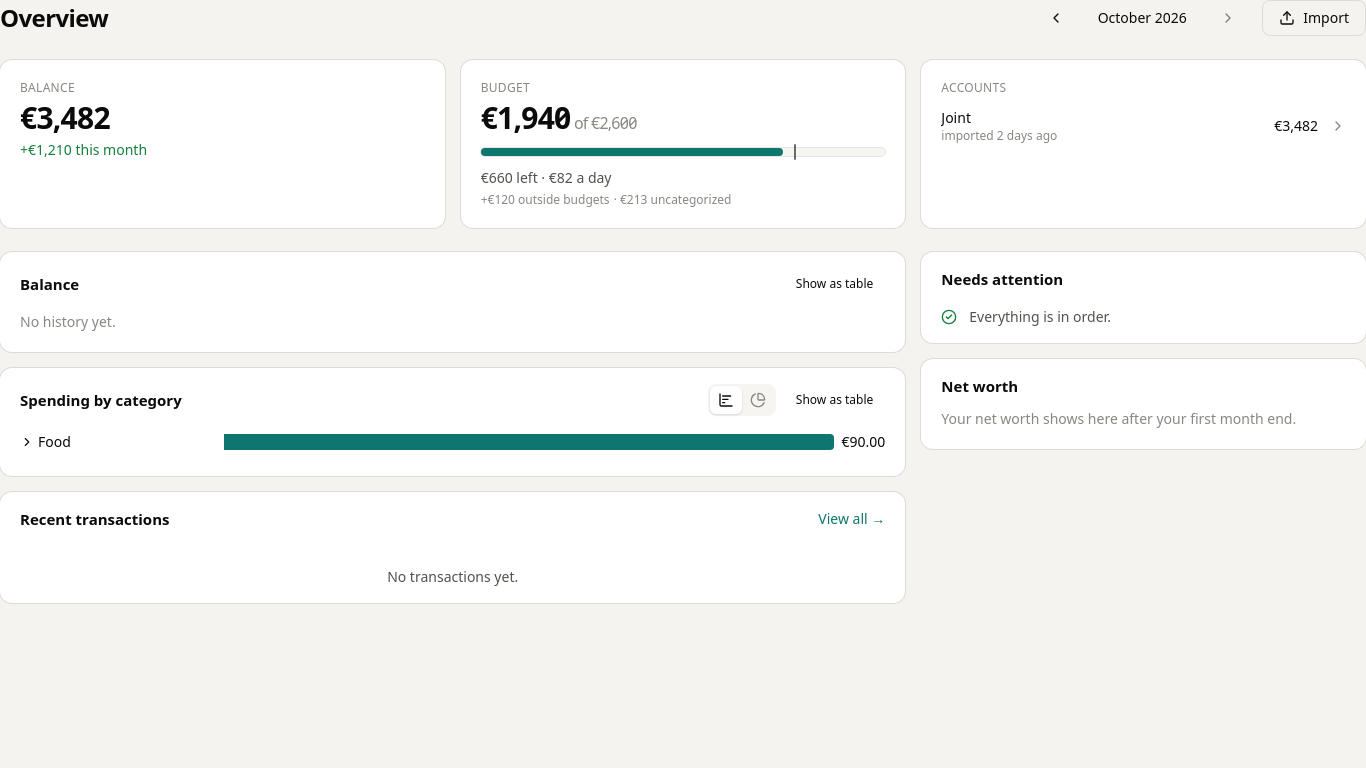
Scenario: Spending by category view › goes back to all categories when the month changes
Click the button named "Pie": (758, 400) [742,386,774,414]
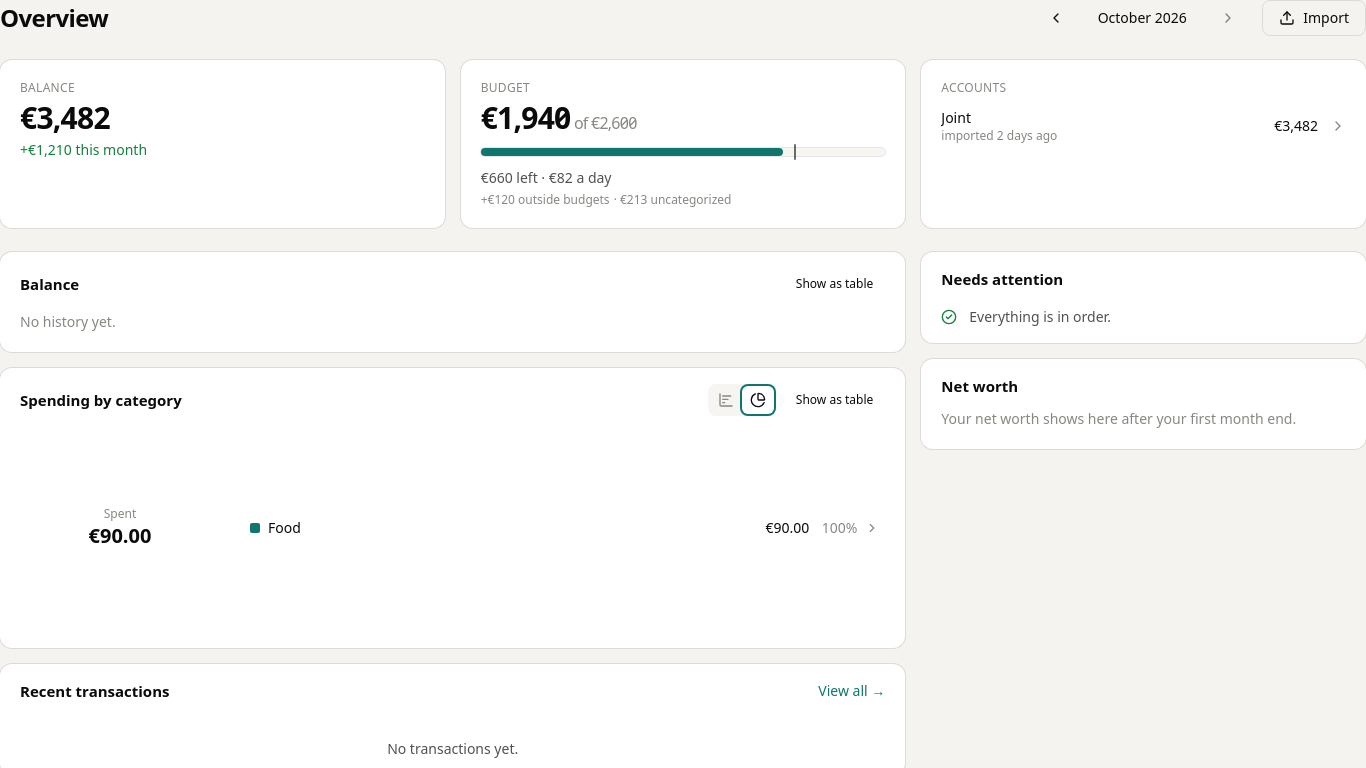
Click the button "Food €90.00 100%": (284, 528) [244,512,885,544]
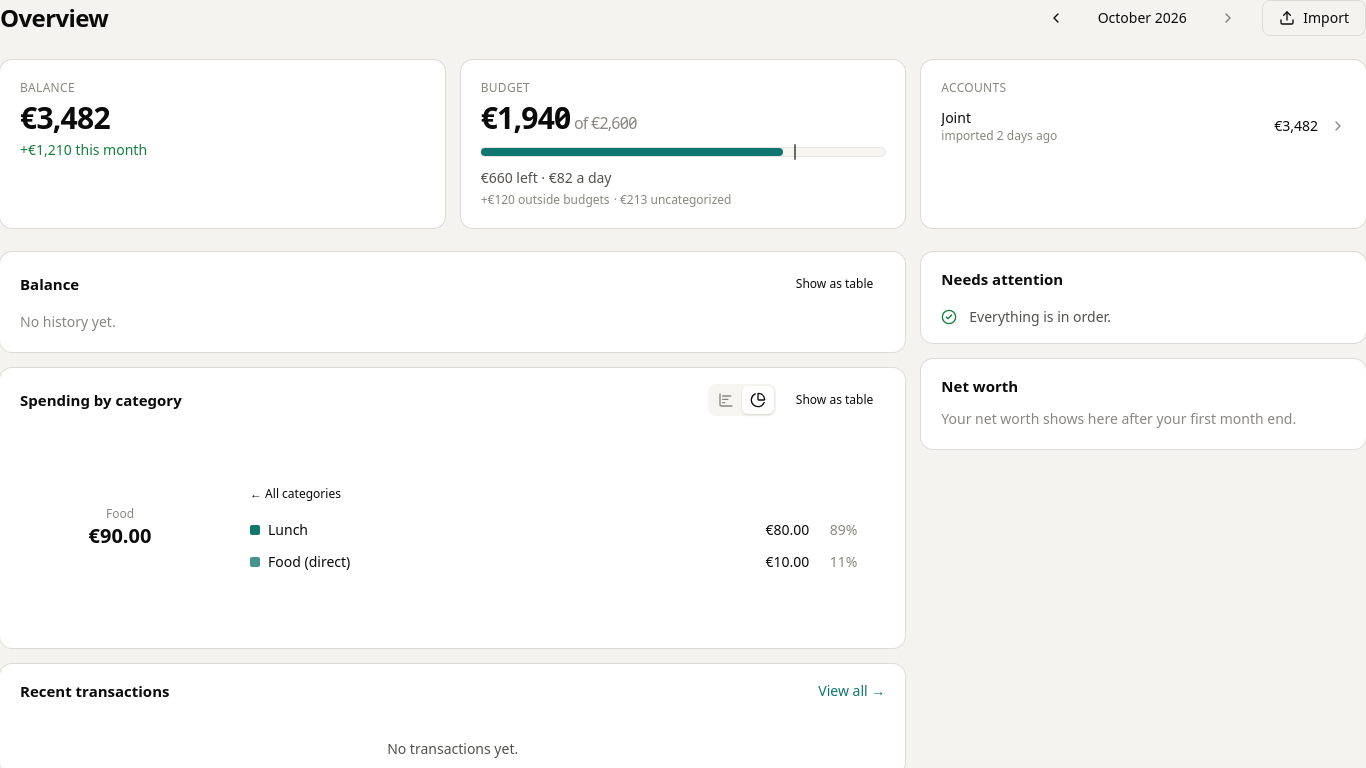
Now the button "← All categories" is shown, box [238,478,353,510]
Click the button named "Previous month": (1056, 18) [1038,0,1074,36]
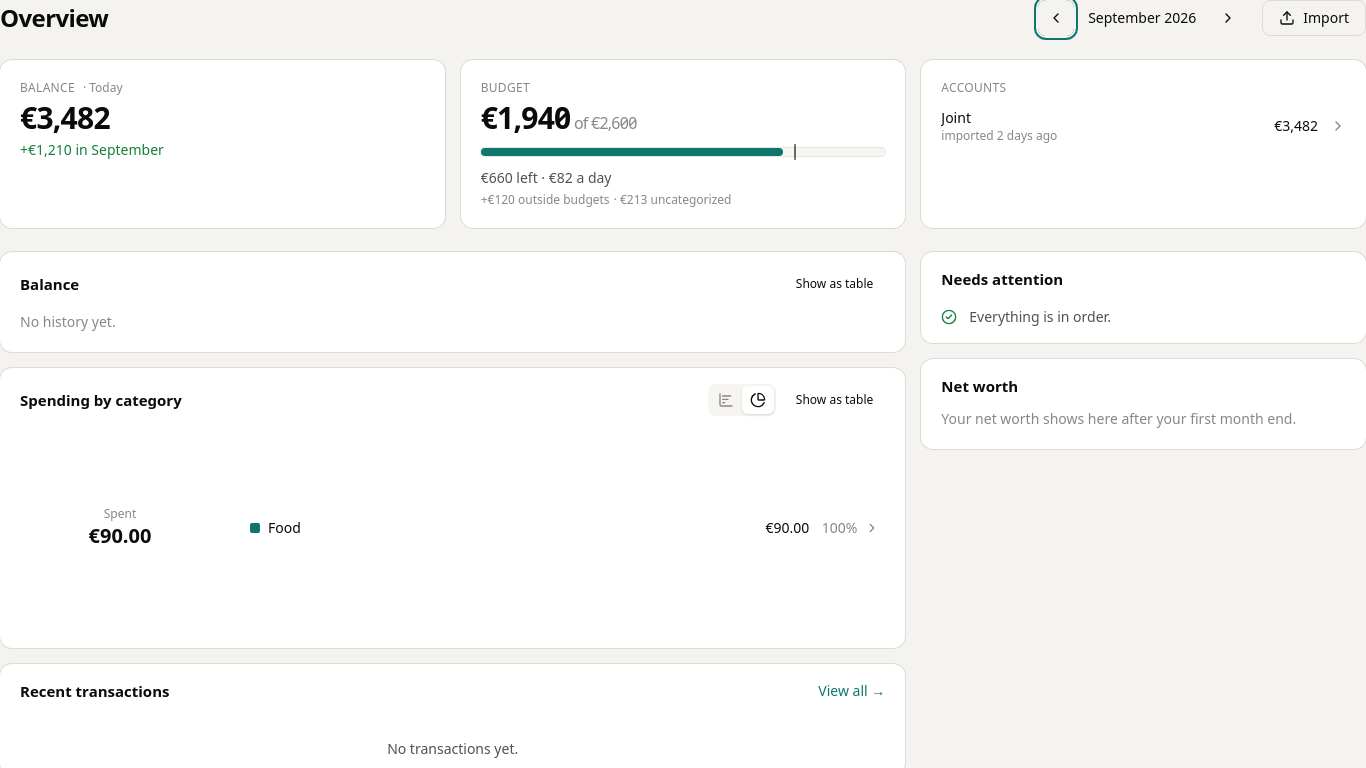
Now the button "← All categories" is gone
